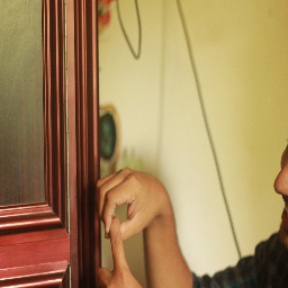Q: (84, 161, 170, 288)
